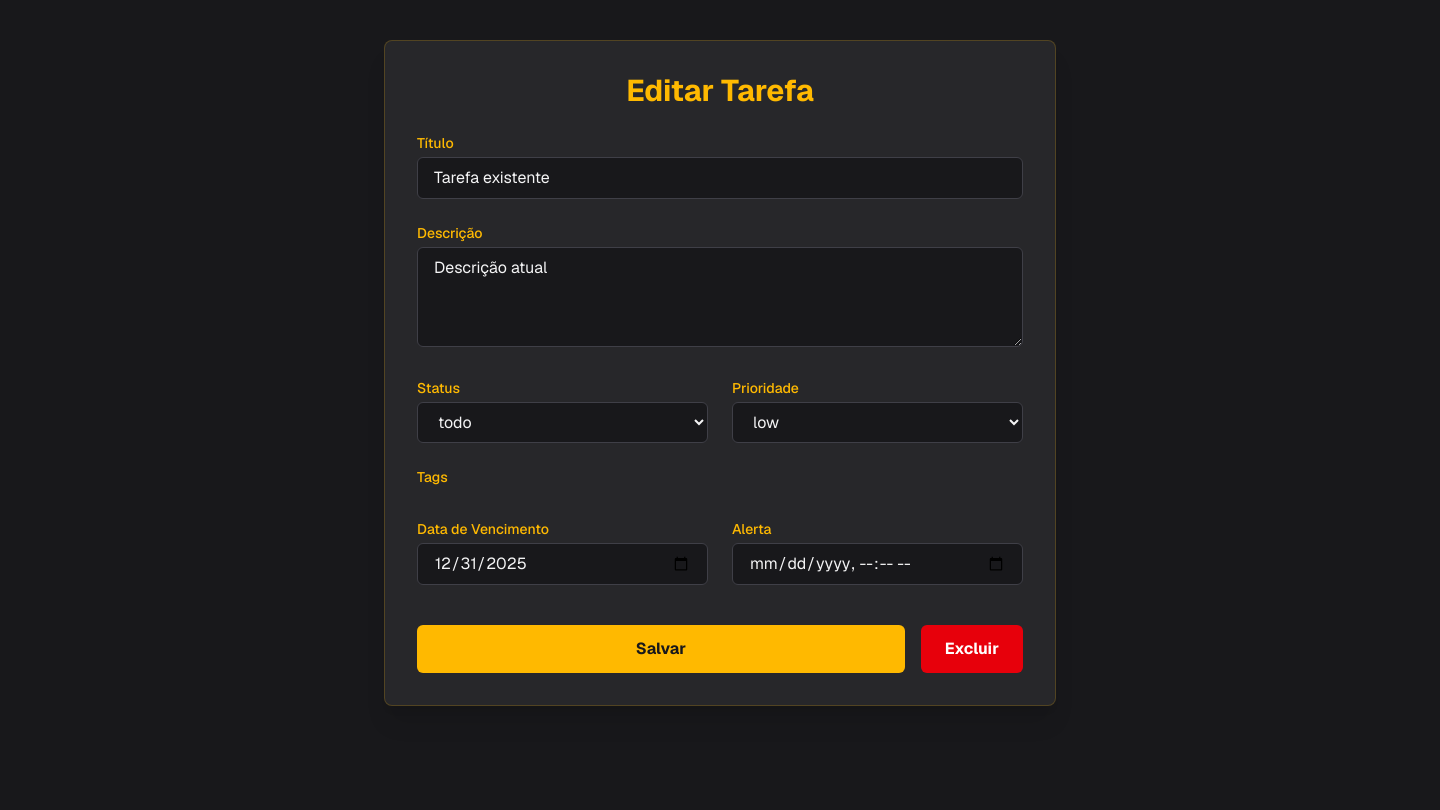
Test: RF8 & RF9 - Editar e Excluir Tarefa (Frontend) › deve abrir modal de confirmação ao clicar em excluir
Click the button "Excluir".
click(972, 649)  # box [921, 625, 1023, 673]
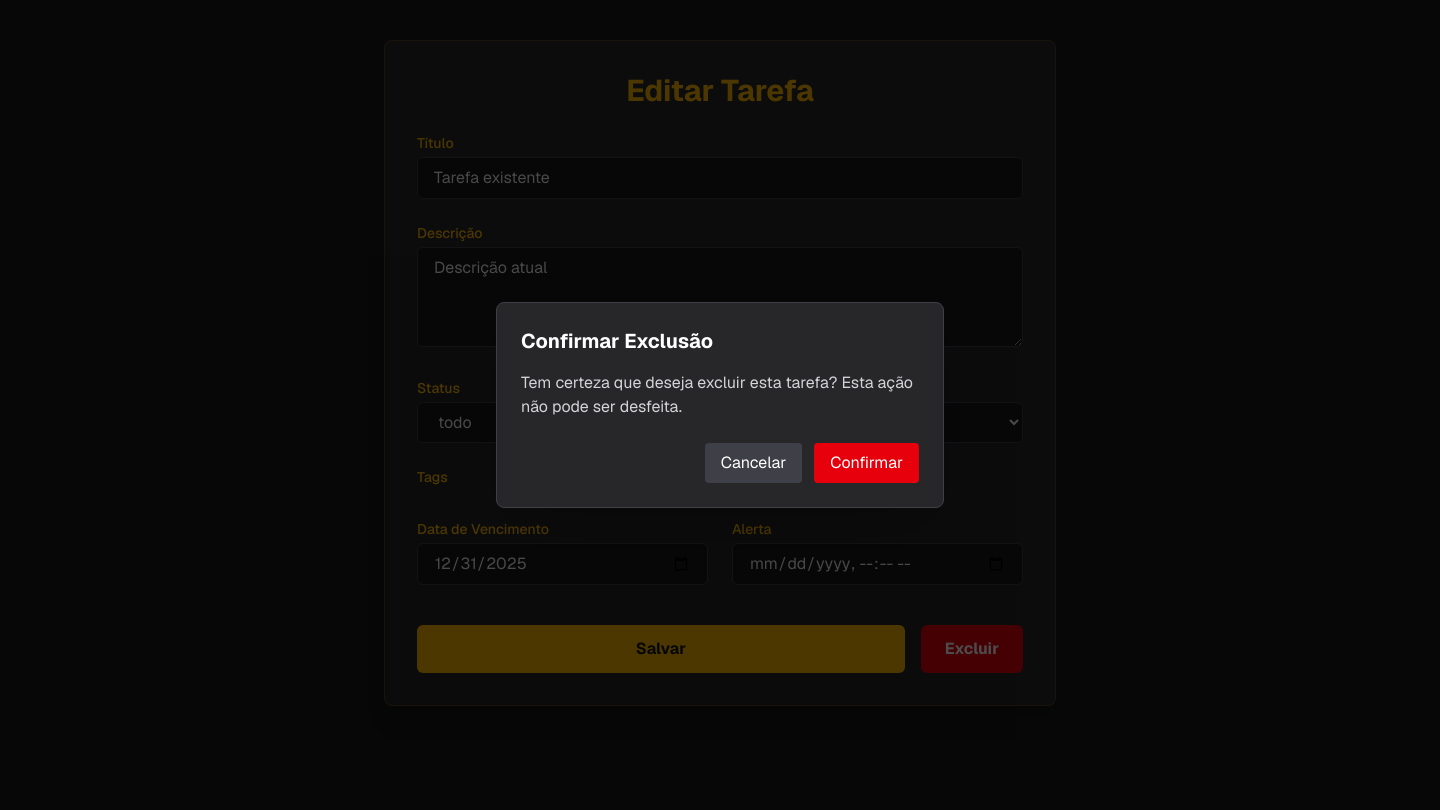
Now the dialog is shown
Now the heading "Confirmar Exclusão" is shown, box [521, 328, 713, 354]
